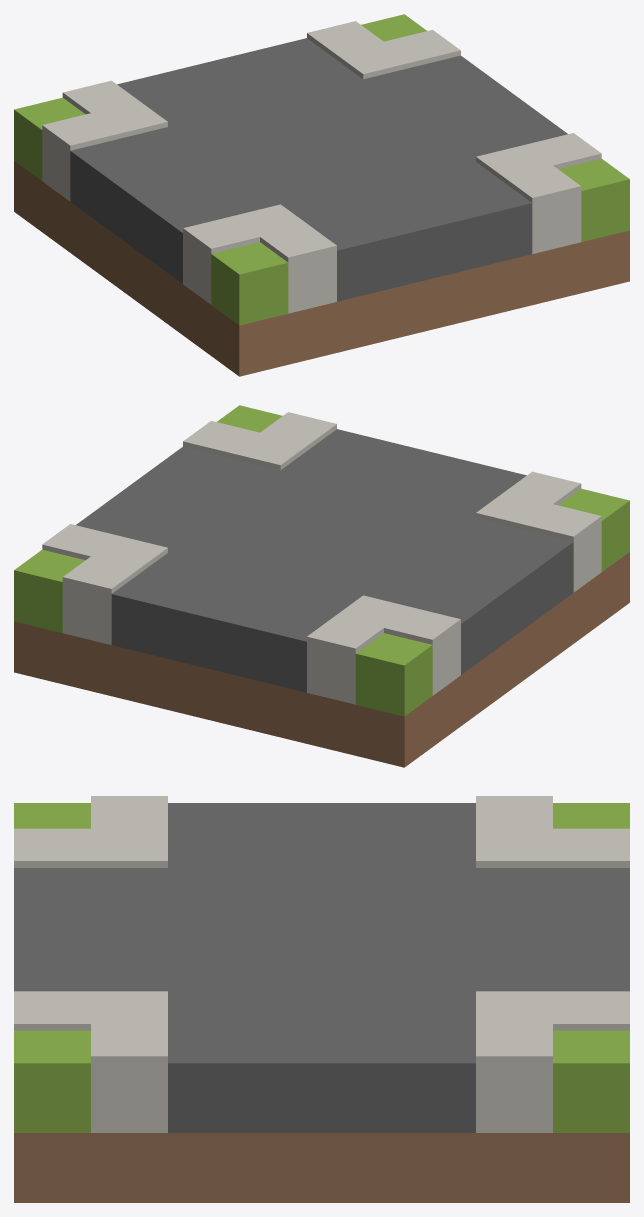
Rendered from road-crossing-low.obj.
The picture shows the model from 3 angles, top to bottom: view 1: azimuth 30°, elevation 25°; view 2: azimuth 150°, elevation 25°; view 3: azimuth 270°, elevation 25°; orthographic projection. The views are drawn at different scales.
Parts seen in each view (by area): view 1: road-crossing-low_Cube.010; view 2: road-crossing-low_Cube.010; view 3: road-crossing-low_Cube.010.
Part boxes in pixels (left/top/right/bottom): road-crossing-low_Cube.010: left=14, top=14, right=629, bottom=376; road-crossing-low_Cube.010: left=14, top=405, right=629, bottom=767; road-crossing-low_Cube.010: left=14, top=796, right=629, bottom=1202.
Bounding box in the file's own units: 8 × 2.1 × 8.
Materials: 1 (1 with a texture image).
